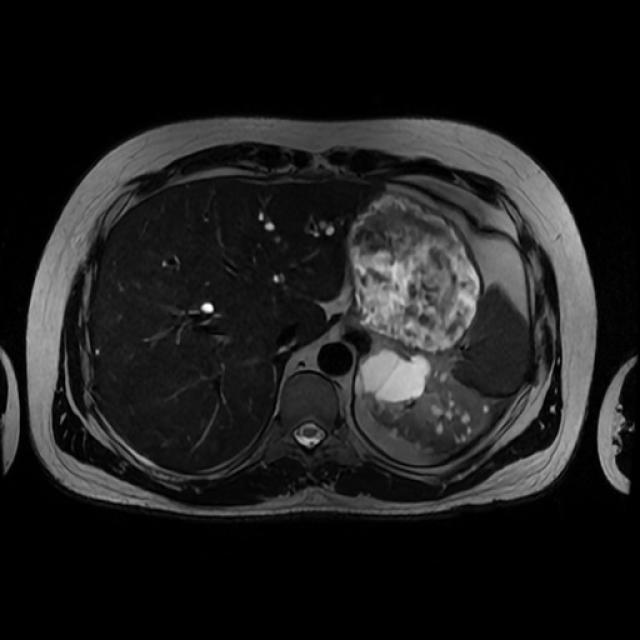sol: (355, 339, 491, 457)
